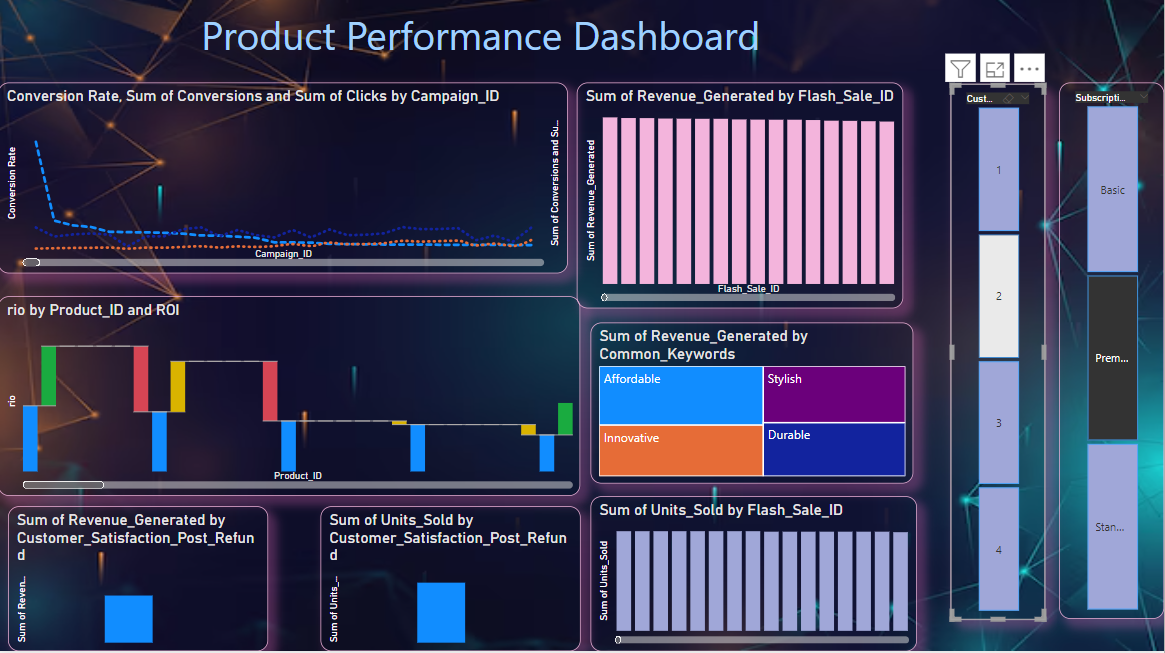

Layout of this report page (visuals, bound fields, positions):
{"tool":"powerbi","page":{"name":"Page 1","canvas":[1280,720],"ordinal":0},"visuals":[{"type":"lineChart","fields":{"Category":["marketing_and_product_performance.Campaign_ID"],"Y":["marketing_and_product_performance.Conversion Rate"],"Y2":["Sum(marketing_and_product_performance.Conversions)","Sum(marketing_and_product_performance.Clicks)"]},"box":[0,96.1,625.7,209.9],"z":0},{"type":"waterfallChart","fields":{"Category":["marketing_and_product_performance.Product_ID"],"Y":["marketing_and_product_performance.rio"],"Breakdown":["marketing_and_product_performance.ROI"]},"box":[0,330.7,639.5,219.6],"z":1000},{"type":"columnChart","fields":{"Y":["Sum(marketing_and_product_performance.Revenue_Generated)"],"Category":["marketing_and_product_performance.Customer_Satisfaction_Post_Refund"]},"box":[11,561.2,285.4,159.2],"z":2000},{"type":"columnChart","fields":{"Category":["marketing_and_product_performance.Customer_Satisfaction_Post_Refund"],"Y":["Sum(marketing_and_product_performance.Units_Sold)"]},"box":[354,561.2,285.4,159.2],"z":3000},{"type":"clusteredColumnChart","fields":{"Category":["marketing_and_product_performance.Flash_Sale_ID"],"Y":["Sum(marketing_and_product_performance.Revenue_Generated)"]},"box":[635.3,96.1,358.1,248.4],"z":4000},{"type":"treemap","fields":{"Group":["marketing_and_product_performance.Common_Keywords"],"Values":["Sum(marketing_and_product_performance.Revenue_Generated)"]},"box":[650.4,359.5,354,177],"z":5000},{"type":"slicer","fields":{"Values":["marketing_and_product_performance.Subscription_Tier"]},"box":[1165,96.1,115.3,588.7],"z":6000},{"type":"clusteredColumnChart","fields":{"Category":["marketing_and_product_performance.Flash_Sale_ID"],"Y":["Sum(marketing_and_product_performance.Units_Sold)"]},"box":[650.4,550.3,358.1,170.2],"z":7000},{"type":"textbox","box":[218.2,9.6,675.1,75.5],"z":8000},{"type":"slicer","fields":{"Values":["marketing_and_product_performance.Customer_Satisfaction_Post_Refund"]},"box":[1045.6,97.4,104.3,588.7],"z":8001}]}

Visuals, with their boxes in screenshot pixels (x1, y1, x2, y2), scaled from the page's 1280x720 canvas onto the 1165x653 screenshot:
lineChart - marketing_and_product_performance.Campaign_ID x marketing_and_product_performance.Conversion Rate: select_region(0, 87, 569, 278)
waterfallChart - marketing_and_product_performance.Product_ID x marketing_and_product_performance.rio: select_region(0, 300, 582, 499)
columnChart - Sum(marketing_and_product_performance.Revenue_Generated) x marketing_and_product_performance.Customer_Satisfaction_Post_Refund: select_region(10, 509, 270, 652)
columnChart - marketing_and_product_performance.Customer_Satisfaction_Post_Refund x Sum(marketing_and_product_performance.Units_Sold): select_region(322, 509, 582, 652)
clusteredColumnChart - marketing_and_product_performance.Flash_Sale_ID x Sum(marketing_and_product_performance.Revenue_Generated): select_region(578, 87, 904, 312)
treemap - marketing_and_product_performance.Common_Keywords x Sum(marketing_and_product_performance.Revenue_Generated): select_region(592, 326, 914, 487)
slicer - marketing_and_product_performance.Subscription_Tier: select_region(1060, 87, 1164, 621)
clusteredColumnChart - marketing_and_product_performance.Flash_Sale_ID x Sum(marketing_and_product_performance.Units_Sold): select_region(592, 499, 918, 652)
textbox: select_region(199, 9, 813, 77)
slicer - marketing_and_product_performance.Customer_Satisfaction_Post_Refund: select_region(952, 88, 1047, 622)
